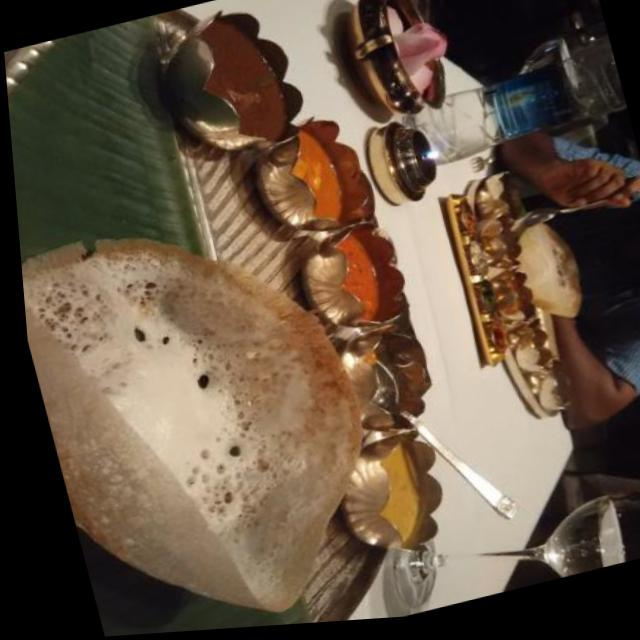AAPAM: (22, 238, 362, 609)
CURRY: (198, 15, 288, 140)
GREEN CHUTNEY: (380, 444, 419, 544)
RED CHUTNEY: (338, 234, 378, 317)
SAMBAR: (293, 132, 342, 217)
